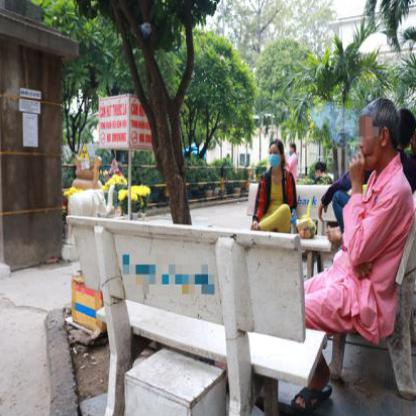person: (340, 98, 411, 336), (252, 140, 297, 234)
smoke: (308, 100, 336, 134), (342, 116, 358, 138)
